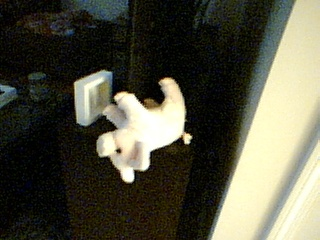piggy: (95, 77, 193, 185)
